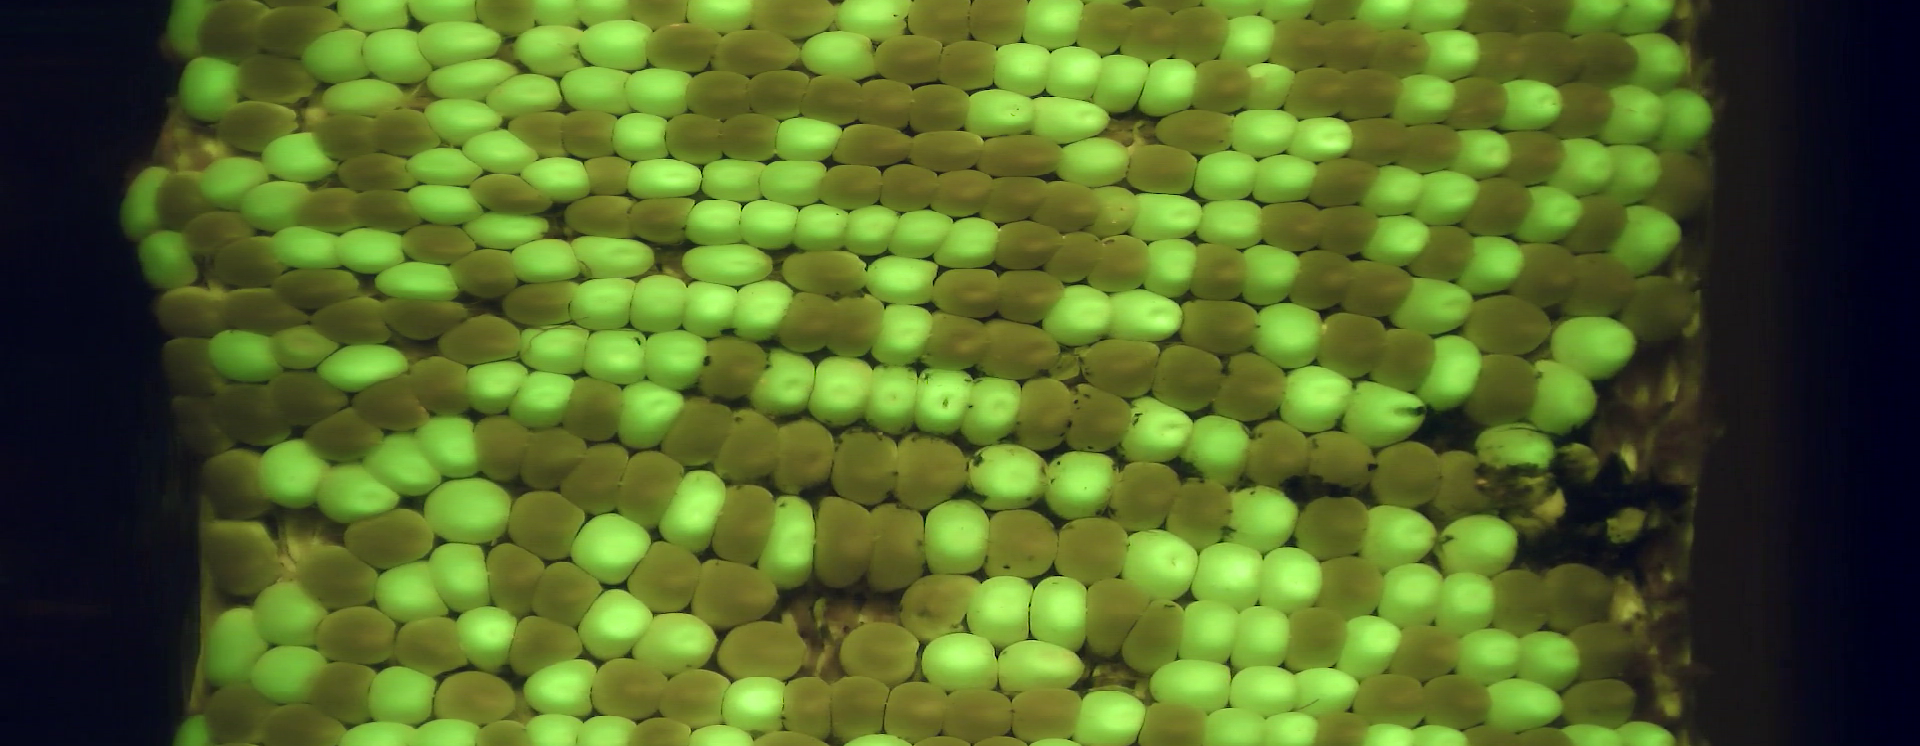fluorescent: (1402, 328, 1490, 418), (1116, 523, 1209, 608), (416, 473, 518, 549), (959, 439, 1059, 514), (1333, 376, 1434, 452), (193, 601, 278, 691), (749, 492, 825, 592), (564, 510, 660, 588), (250, 432, 340, 514), (572, 586, 662, 668), (649, 465, 729, 559), (627, 605, 726, 679), (310, 458, 409, 530), (1111, 388, 1198, 470), (1353, 500, 1444, 576), (1273, 360, 1358, 441), (1037, 446, 1124, 524), (370, 554, 457, 632), (247, 577, 334, 654), (1216, 480, 1304, 556), (1182, 538, 1270, 614), (359, 425, 449, 499), (1548, 314, 1640, 386), (1178, 408, 1258, 491), (305, 337, 418, 396), (1604, 202, 1689, 279), (1430, 510, 1523, 579), (918, 496, 998, 577), (912, 627, 1008, 695), (420, 537, 498, 619), (1245, 296, 1329, 374), (962, 568, 1036, 655), (1522, 356, 1603, 435), (607, 376, 689, 453), (993, 633, 1089, 699), (1024, 572, 1097, 658), (1476, 671, 1576, 733), (1251, 541, 1330, 620), (804, 350, 879, 432), (1040, 281, 1124, 353), (951, 372, 1029, 450), (744, 343, 818, 423), (1147, 652, 1237, 717), (1469, 415, 1564, 477), (109, 163, 178, 246), (1385, 274, 1476, 337), (360, 661, 441, 731), (353, 21, 435, 89), (1591, 81, 1674, 148), (678, 236, 780, 292), (725, 274, 801, 348), (451, 600, 524, 676), (1373, 559, 1445, 636), (291, 24, 377, 89), (249, 639, 331, 707), (200, 325, 288, 387), (512, 317, 595, 383), (1223, 598, 1296, 674), (173, 49, 241, 129), (1102, 285, 1188, 349), (518, 655, 604, 719), (1229, 240, 1310, 307), (1539, 132, 1620, 200), (909, 361, 975, 443), (1449, 624, 1531, 690), (508, 18, 591, 83), (861, 360, 924, 445), (409, 17, 508, 71), (864, 298, 937, 371), (1509, 181, 1588, 247), (234, 176, 323, 235), (257, 125, 343, 186), (420, 54, 522, 105), (456, 354, 538, 418), (131, 225, 204, 296), (411, 409, 482, 483), (1067, 686, 1153, 746), (1453, 232, 1531, 299), (718, 673, 796, 739), (560, 272, 640, 336), (1619, 26, 1692, 96), (1382, 69, 1464, 131), (958, 85, 1044, 143), (1051, 131, 1138, 190), (1594, 140, 1671, 206), (564, 232, 659, 285), (1222, 103, 1307, 163), (1222, 660, 1308, 719), (195, 151, 269, 218), (1130, 54, 1206, 120), (618, 62, 702, 122), (369, 257, 470, 306), (1510, 627, 1589, 690), (420, 92, 508, 148), (1171, 597, 1243, 665), (503, 367, 577, 435), (640, 325, 715, 391), (572, 17, 658, 75), (857, 254, 947, 309), (1189, 148, 1271, 208), (793, 28, 887, 81), (580, 326, 655, 391), (553, 62, 637, 120), (1651, 85, 1720, 153), (1411, 165, 1483, 232), (756, 153, 835, 213), (331, 223, 415, 279), (456, 206, 555, 254), (1030, 93, 1116, 148), (1427, 568, 1504, 630), (1084, 49, 1152, 118), (623, 272, 692, 341), (1189, 194, 1272, 250), (1040, 40, 1112, 105), (1291, 661, 1363, 726), (480, 69, 567, 122), (1356, 160, 1431, 222), (767, 111, 850, 167), (678, 277, 744, 345), (462, 125, 544, 180), (316, 73, 408, 122), (263, 320, 343, 376), (267, 223, 354, 274), (884, 206, 960, 265), (1496, 76, 1572, 135), (1138, 234, 1202, 303), (931, 213, 1005, 272), (1128, 190, 1211, 243), (516, 151, 596, 205), (1245, 151, 1322, 207), (1356, 212, 1438, 265), (506, 232, 584, 287), (1281, 113, 1360, 167), (399, 181, 489, 229), (622, 154, 707, 205), (605, 108, 676, 167), (696, 153, 769, 209), (677, 194, 751, 250), (403, 142, 489, 190), (1013, 1, 1091, 53), (1216, 9, 1280, 71), (989, 40, 1056, 100), (1445, 125, 1516, 180), (1420, 26, 1487, 85), (789, 200, 853, 258), (736, 195, 801, 254), (829, 1, 918, 43), (840, 202, 900, 261), (163, 1, 220, 62), (1082, 184, 1146, 239), (1556, 1, 1635, 45), (1240, 58, 1304, 111), (676, 1, 760, 38), (1198, 706, 1273, 746), (1613, 1, 1685, 42), (329, 1, 413, 36), (518, 708, 588, 746), (567, 710, 638, 746), (1400, 1, 1473, 36), (400, 1, 482, 32), (1351, 1, 1420, 36), (1258, 710, 1325, 746)
nonfluorescent: (853, 497, 939, 598), (684, 554, 787, 636), (888, 428, 977, 517), (715, 612, 817, 688), (980, 500, 1067, 588), (192, 518, 285, 599), (809, 489, 879, 597), (340, 501, 442, 575), (623, 535, 713, 619), (1614, 268, 1706, 349), (1457, 292, 1558, 364), (1550, 247, 1646, 323), (1100, 454, 1188, 537), (609, 443, 689, 533), (1204, 345, 1294, 424), (1046, 512, 1135, 590), (656, 394, 741, 477), (504, 485, 591, 565), (290, 541, 386, 614), (587, 650, 678, 725), (705, 477, 779, 570), (193, 445, 277, 526), (1289, 491, 1376, 567), (500, 609, 588, 684), (527, 554, 609, 633), (389, 609, 476, 684), (834, 619, 929, 686), (1539, 557, 1620, 637), (207, 380, 291, 456), (1272, 603, 1358, 677), (312, 600, 400, 673), (1114, 592, 1185, 681), (827, 428, 905, 508), (1460, 350, 1542, 428), (1146, 339, 1229, 415), (710, 403, 786, 486), (429, 666, 524, 733), (1078, 331, 1166, 402), (972, 316, 1067, 382), (513, 421, 594, 499), (249, 1, 350, 62), (899, 571, 983, 644), (1010, 370, 1082, 456), (1174, 292, 1265, 359), (1449, 173, 1539, 240), (373, 288, 476, 347), (1238, 415, 1316, 492), (1314, 307, 1393, 383), (1160, 475, 1240, 550), (480, 537, 551, 621), (296, 402, 387, 468), (1370, 437, 1447, 514), (1307, 552, 1392, 621), (1058, 381, 1135, 457), (1643, 145, 1720, 220), (817, 289, 895, 364), (693, 332, 773, 405), (260, 367, 355, 429), (776, 244, 876, 303), (1348, 666, 1436, 733), (1082, 573, 1145, 666), (430, 310, 527, 370), (214, 282, 317, 338), (347, 369, 432, 436), (1482, 563, 1558, 639), (301, 657, 380, 730), (1506, 236, 1584, 310), (767, 415, 838, 496), (553, 436, 620, 522), (158, 392, 236, 464), (197, 681, 284, 746), (1560, 24, 1647, 89), (1562, 616, 1646, 684), (1364, 321, 1440, 394), (231, 49, 323, 109), (1556, 673, 1644, 735), (1428, 446, 1502, 519), (151, 167, 227, 239), (703, 26, 807, 78), (1400, 220, 1480, 288), (1419, 669, 1501, 735), (1300, 429, 1382, 495), (653, 666, 736, 731), (926, 261, 1007, 327), (302, 294, 399, 349), (192, 1, 274, 66), (1340, 254, 1416, 323), (1146, 107, 1244, 160), (214, 96, 299, 158), (1007, 680, 1089, 744), (1543, 78, 1620, 146), (560, 371, 624, 451), (1287, 244, 1360, 314), (1122, 141, 1204, 203), (147, 284, 229, 347), (937, 681, 1019, 744), (497, 274, 584, 333), (460, 168, 557, 220), (402, 353, 474, 423), (971, 131, 1071, 181), (153, 332, 228, 399), (1491, 124, 1573, 185), (920, 307, 996, 374), (1082, 232, 1160, 296), (1379, 620, 1466, 677), (364, 104, 448, 163), (879, 677, 951, 746), (392, 217, 487, 268), (1262, 13, 1341, 76), (989, 267, 1069, 328), (1558, 191, 1631, 257), (1251, 196, 1332, 256), (1333, 62, 1414, 122), (251, 699, 355, 746), (640, 20, 726, 76), (1512, 26, 1591, 87), (775, 673, 842, 744), (771, 285, 838, 358), (825, 673, 891, 745), (869, 29, 949, 89), (174, 205, 260, 260), (989, 214, 1067, 276), (1276, 62, 1354, 122), (1390, 118, 1469, 176), (1440, 72, 1515, 135), (1025, 176, 1102, 236), (443, 243, 520, 303), (1185, 240, 1258, 304), (1303, 152, 1382, 209), (1168, 2, 1237, 69), (681, 65, 758, 124), (656, 108, 729, 170), (469, 409, 527, 488), (212, 229, 287, 289), (902, 126, 989, 178), (306, 108, 387, 163), (1337, 113, 1418, 168), (827, 121, 920, 169), (287, 183, 367, 236), (874, 157, 947, 217), (560, 102, 627, 165), (1116, 2, 1184, 65), (266, 263, 362, 307), (934, 36, 1005, 96), (1128, 697, 1215, 746), (978, 171, 1053, 228), (814, 158, 889, 214), (793, 70, 864, 129), (715, 109, 787, 167), (560, 192, 640, 244), (1188, 56, 1258, 115), (742, 62, 812, 121), (334, 148, 420, 196), (624, 192, 696, 250), (904, 80, 976, 136), (501, 107, 573, 162), (1313, 13, 1385, 69), (1044, 225, 1111, 285), (347, 183, 420, 236), (1314, 202, 1382, 260), (924, 165, 994, 222), (740, 1, 842, 39), (853, 75, 916, 135), (1071, 1, 1138, 56), (1367, 24, 1439, 73), (961, 1, 1032, 50), (1471, 28, 1533, 81), (902, 1, 976, 45), (573, 151, 637, 201), (465, 1, 542, 39), (1457, 1, 1534, 38), (1307, 707, 1371, 746), (624, 1, 694, 29), (1521, 1, 1578, 32)
